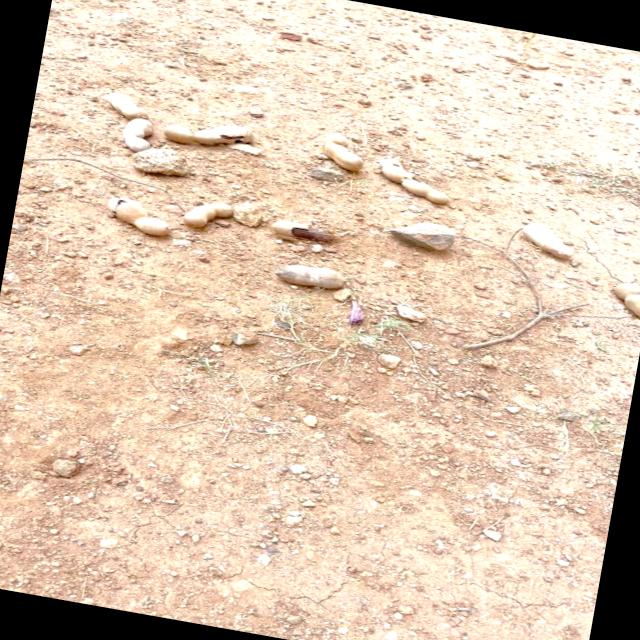tamarind: (163, 112, 265, 161), (381, 160, 456, 210), (108, 200, 180, 243), (511, 218, 581, 260), (270, 262, 354, 295), (268, 217, 339, 248), (180, 194, 232, 234), (314, 141, 366, 172), (120, 114, 158, 156), (104, 92, 142, 117)
